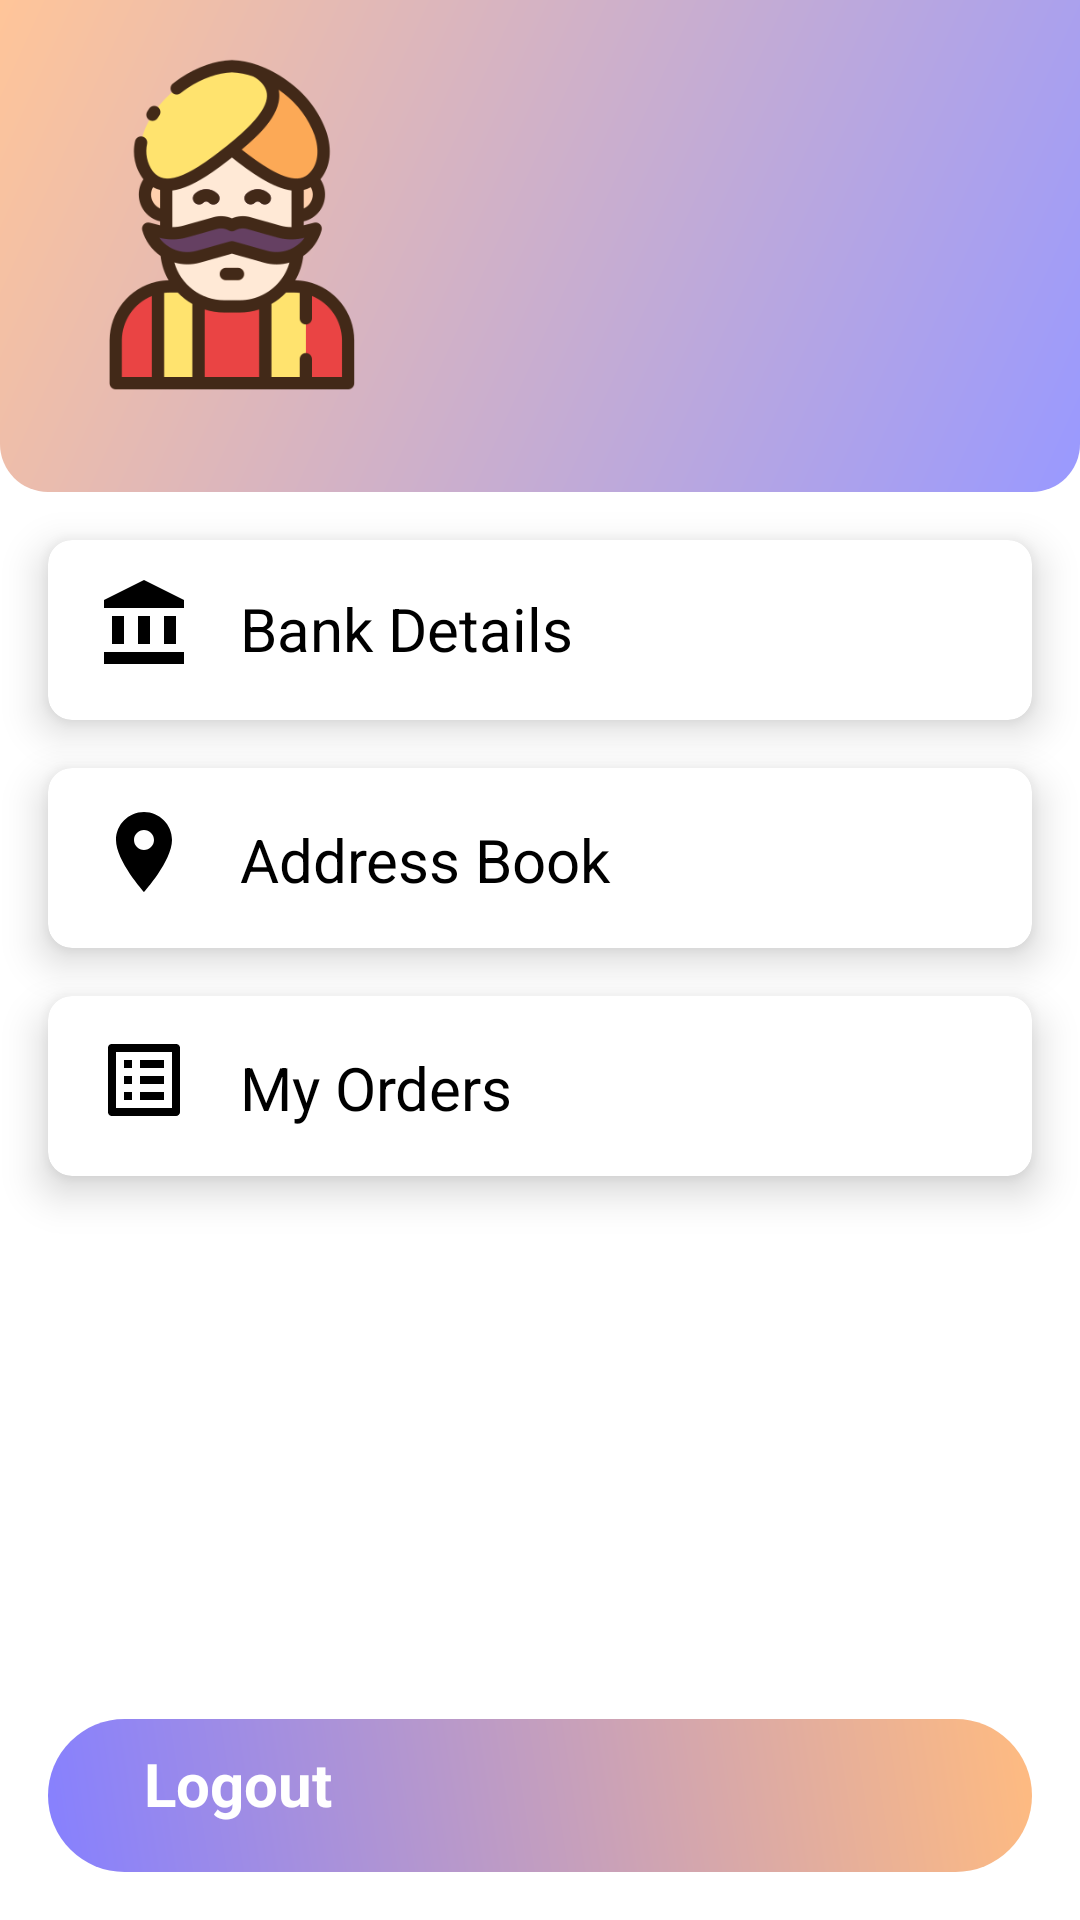

Named icons in this screenshot (1080w x 1920h) and their bounding boxes, (x1, y1, x2, y2):
location: (116, 812, 172, 892)
orderlist: (108, 1044, 180, 1116)
